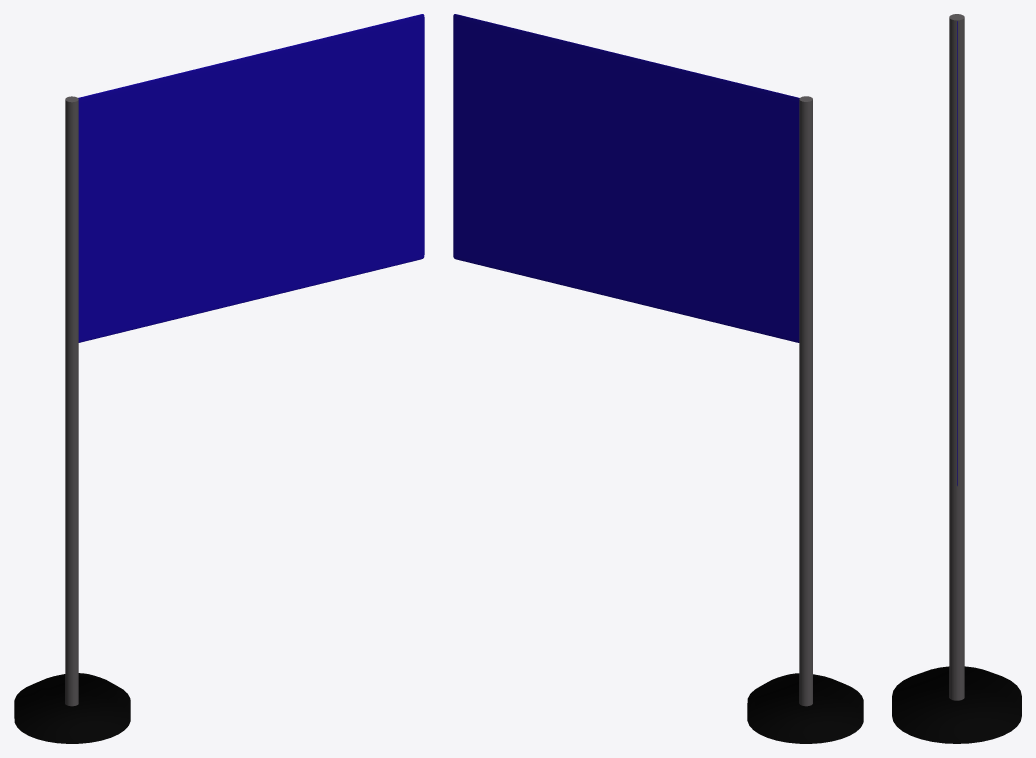
The model's file is Blue_flag тАФ ╨║╨╛╨┐╨╕╤П.fbx.
3 views of the same model, side by side, from view 1: azimuth 30°, elevation 25°; view 2: azimuth 150°, elevation 25°; view 3: azimuth 270°, elevation 25° (orthographic). The views are drawn at different scales.
Visible parts, largest first — view 1: Cube_Thai_0.003; view 2: Cube_Thai_0.003; view 3: Cube_Thai_0.003.
Boxes of the visible parts, <box> form: Cube_Thai_0.003: <box>14,14,424,743</box>; Cube_Thai_0.003: <box>453,14,863,743</box>; Cube_Thai_0.003: <box>892,14,1021,743</box>.
Size of the model in its own units: 343 by 505 by 85.08.
